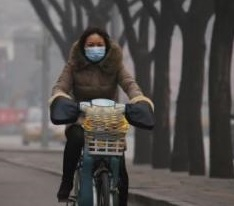person: (47, 28, 156, 205)
